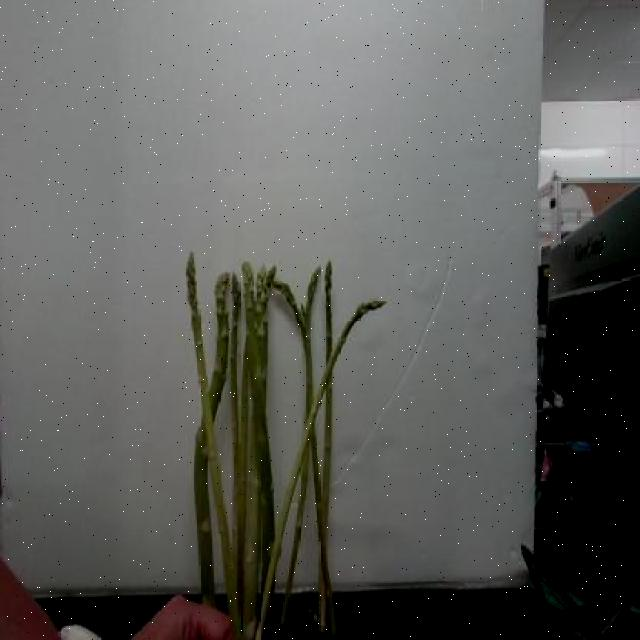aspargus: (251, 291, 391, 639), (180, 247, 247, 637)
